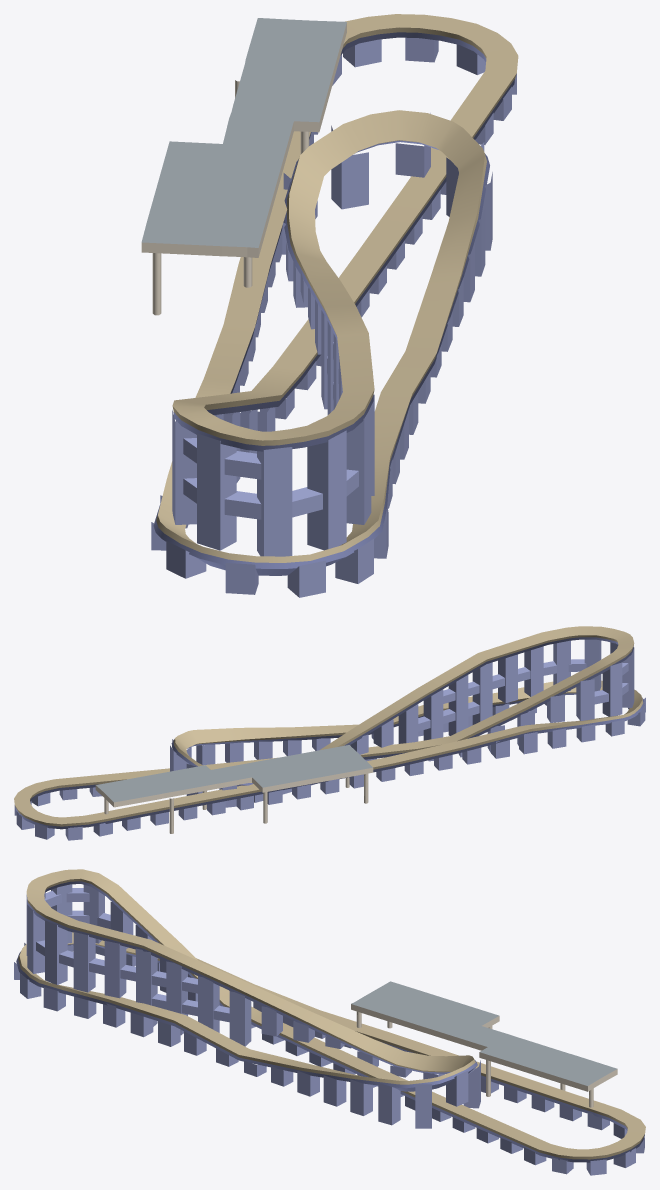
File: carowinds-woodstock-express.glb
3 renders of one model, top to bottom at view 1: azimuth 30°, elevation 25°; view 2: azimuth 150°, elevation 25°; view 3: azimuth 270°, elevation 25°, orthographic. The views are drawn at different scales.
Parts seen in each view (by area): view 1: Woodstock Express; view 2: Woodstock Express; view 3: Woodstock Express.
Boxes of the visible parts, x1,y1,x2,y2 form: Woodstock Express: [141, 14, 518, 597]; Woodstock Express: [14, 626, 645, 840]; Woodstock Express: [14, 869, 645, 1175].
Size of the model in its own units: 73.98 by 15.14 by 90.94.
